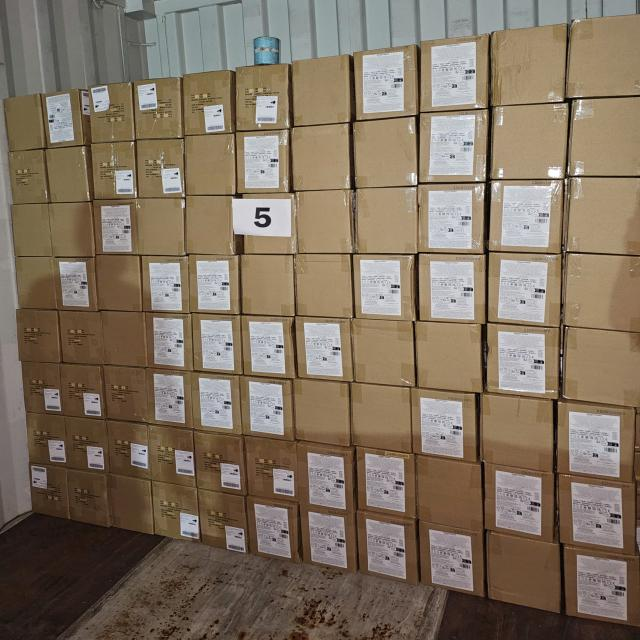Carton: (556, 474, 636, 555), (556, 399, 634, 482), (561, 544, 638, 626), (562, 254, 638, 335), (489, 532, 564, 614), (566, 326, 640, 408), (490, 106, 567, 184), (495, 24, 569, 105), (564, 178, 638, 259), (486, 464, 560, 544), (569, 16, 640, 99), (480, 394, 554, 473), (490, 252, 565, 328), (487, 182, 564, 256), (571, 96, 640, 178), (489, 325, 563, 400), (422, 38, 492, 112), (415, 456, 483, 532), (421, 523, 488, 600), (415, 252, 486, 324), (417, 109, 486, 183), (411, 388, 479, 463), (414, 320, 484, 392), (418, 183, 484, 255), (354, 512, 417, 586), (353, 46, 416, 118), (356, 118, 420, 188), (350, 318, 415, 386), (350, 381, 412, 452), (354, 187, 418, 255), (354, 448, 415, 519), (294, 56, 354, 128), (353, 254, 416, 322), (300, 442, 359, 512), (290, 124, 350, 192), (296, 379, 354, 448), (232, 195, 296, 256), (237, 65, 293, 134), (296, 190, 355, 255), (294, 316, 352, 382), (294, 254, 352, 320), (237, 132, 293, 198), (302, 511, 359, 575), (242, 315, 298, 379), (249, 496, 303, 561), (238, 255, 294, 317), (194, 432, 247, 496), (242, 378, 296, 440), (188, 375, 240, 438), (246, 440, 298, 502), (185, 138, 237, 200), (183, 74, 234, 137), (198, 492, 248, 556), (189, 254, 241, 315), (191, 313, 242, 375), (187, 195, 237, 257), (151, 428, 199, 490), (135, 80, 183, 142), (135, 141, 184, 201), (136, 198, 186, 256), (152, 483, 200, 543), (142, 255, 191, 313), (148, 314, 195, 374), (105, 366, 152, 425), (107, 421, 152, 482), (97, 255, 145, 312), (90, 143, 136, 201), (102, 312, 148, 370), (110, 474, 154, 534), (48, 150, 94, 207), (59, 363, 104, 420), (148, 371, 190, 431), (94, 82, 136, 142), (52, 201, 96, 258), (13, 311, 59, 365), (94, 200, 138, 256), (59, 312, 103, 368), (45, 89, 86, 147), (68, 471, 109, 529), (64, 416, 108, 470), (13, 256, 57, 310), (25, 414, 66, 470), (5, 96, 45, 152), (20, 360, 61, 414), (59, 257, 98, 311), (32, 466, 71, 520), (10, 203, 48, 258), (7, 153, 45, 206)
